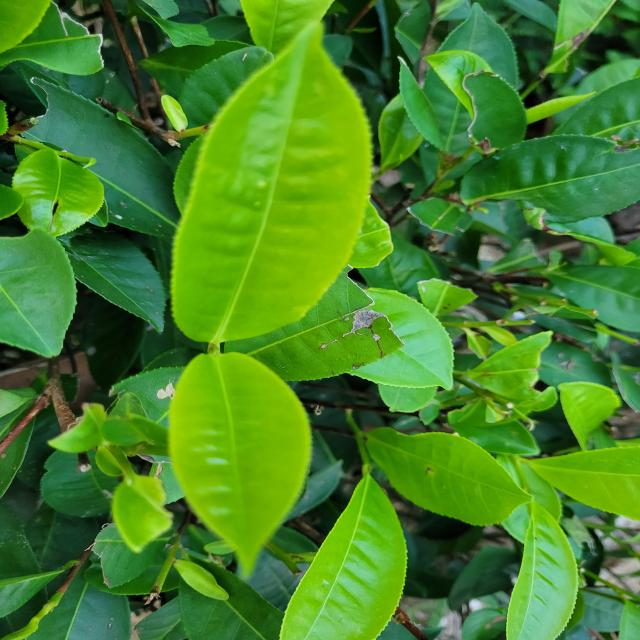Catagory A(1-2 days): (134, 340, 338, 590)
